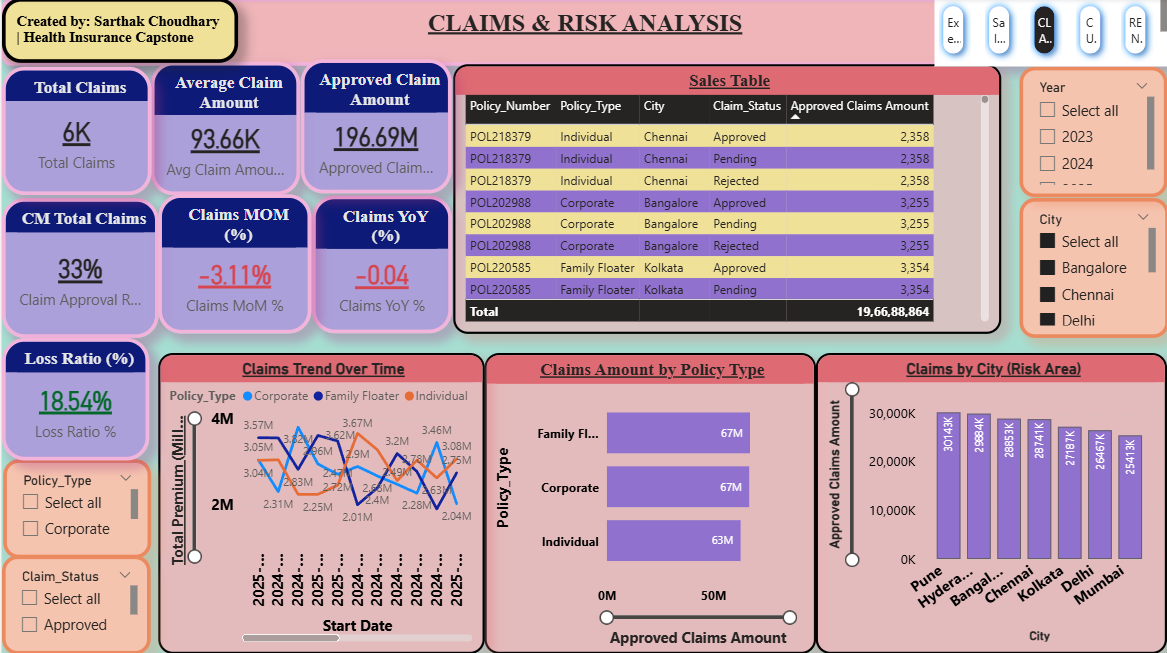

The page's visual inventory and layout, read from the dashboard file:
{"tool":"powerbi","page":{"name":"CLAIMS & RISK ANALYSIS","canvas":[1280,720],"ordinal":2},"visuals":[{"type":"textbox","box":[0,0,1280.3,74.1],"z":0},{"type":"card","title":"Average Claim Amount","fields":{"Values":["All Measures.Avg Claim Amount"]},"box":[163.8,69.6,163.8,146.4],"z":1000},{"type":"card","title":"CM Total Claims","fields":{"Values":["All Measures.Claim Approval Rate %"]},"box":[0,219,172.1,153.8],"z":2000},{"type":"card","title":"Claims YoY (%)","fields":{"Values":["All Measures.Claims YoY %"]},"box":[340.3,216.4,153.8,151.2],"z":3000},{"type":"barChart","title":"Claims Amount by Policy Type","fields":{"Category":["fact_policies.Policy_Type"],"Y":["All Measures.Approved Claims Amount"]},"box":[529.7,389.7,363.6,330.7],"z":4000},{"type":"lineChart","title":"Claims Trend Over Time","fields":{"Series":["fact_policies.Policy_Type"],"Y":["All Measures.Approved Claims Amount"],"Category":["Date Table.Year-Month"]},"box":[171.3,389.7,358.3,330.6],"z":5000},{"type":"clusteredColumnChart","title":"Claims by City (Risk Area)","fields":{"Category":["dim_customer.City"],"Y":["All Measures.Approved Claims Amount"]},"box":[893.3,389.7,385.6,330.7],"z":6000},{"type":"slicer","fields":{"Values":["dim_customer.City"]},"box":[1116.5,218.9,163.8,153.7],"z":7000},{"type":"slicer","fields":{"Values":["fact_policies.Policy_Type"]},"box":[1.4,506,162.4,108.7],"z":8000},{"type":"slicer","fields":{"Values":["Date Table.Year"]},"box":[1116.5,75.4,162.4,143.5],"z":9000},{"type":"textbox","box":[0,0,259.5,71],"z":10000},{"type":"tableEx","title":"Sales Table","fields":{"Values":["fact_policies.Policy_Number","fact_policies.Policy_Type","dim_customer.City","fact_claims.Claim_Status","All Measures.Approved Claims Amount"]},"box":[494.8,72.7,601.9,295.8],"z":11000},{"type":"card","title":"Total Claims","fields":{"Values":["All Measures.Total Claims"]},"box":[0,75.4,163.8,140.6],"z":12000},{"type":"pageNavigator","box":[1023.7,0,256.6,75.4],"z":13000},{"type":"card","title":"Approved Claim Amount","fields":{"Values":["All Measures.Approved Claims Amount"]},"box":[328.6,67.2,165.8,147.2],"z":14000},{"type":"card","title":"Loss Ratio (%) ","fields":{"Values":["All Measures.Loss Ratio %"]},"box":[0,372.9,161.7,134.3],"z":15000},{"type":"slicer","fields":{"Values":["fact_claims.Claim_Status"]},"box":[0,611.6,162.9,108.6],"z":16000},{"type":"card","title":"Claims MOM (%)","fields":{"Values":["All Measures.Claims MoM %"]},"box":[172.1,215.1,168.2,152.5],"z":17000}]}

Visuals, with their boxes in screenshot pixels (x1, y1, x2, y2), scaled from the page's 1280x720 canvas onto the 1167x653 screenshot:
textbox: 0,0,1166,67
"Average Claim Amount" card: 149,63,299,196
"CM Total Claims" card: 0,199,157,338
"Claims YoY (%)" card: 310,196,450,333
"Claims Amount by Policy Type" barChart: 483,353,814,652
"Claims Trend Over Time" lineChart: 156,353,483,652
"Claims by City (Risk Area)" clusteredColumnChart: 814,353,1166,652
slicer - dim_customer.City: 1018,199,1166,338
slicer - fact_policies.Policy_Type: 1,459,149,557
slicer - Date Table.Year: 1018,68,1166,199
textbox: 0,0,237,64
"Sales Table" tableEx: 451,66,1000,334
"Total Claims" card: 0,68,149,196
pageNavigator: 933,0,1166,68
"Approved Claim Amount" card: 300,61,451,194
"Loss Ratio (%) " card: 0,338,147,460
slicer - fact_claims.Claim_Status: 0,555,149,652
"Claims MOM (%)" card: 157,195,310,333
